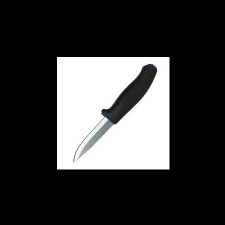k1: (72, 107, 117, 163)
